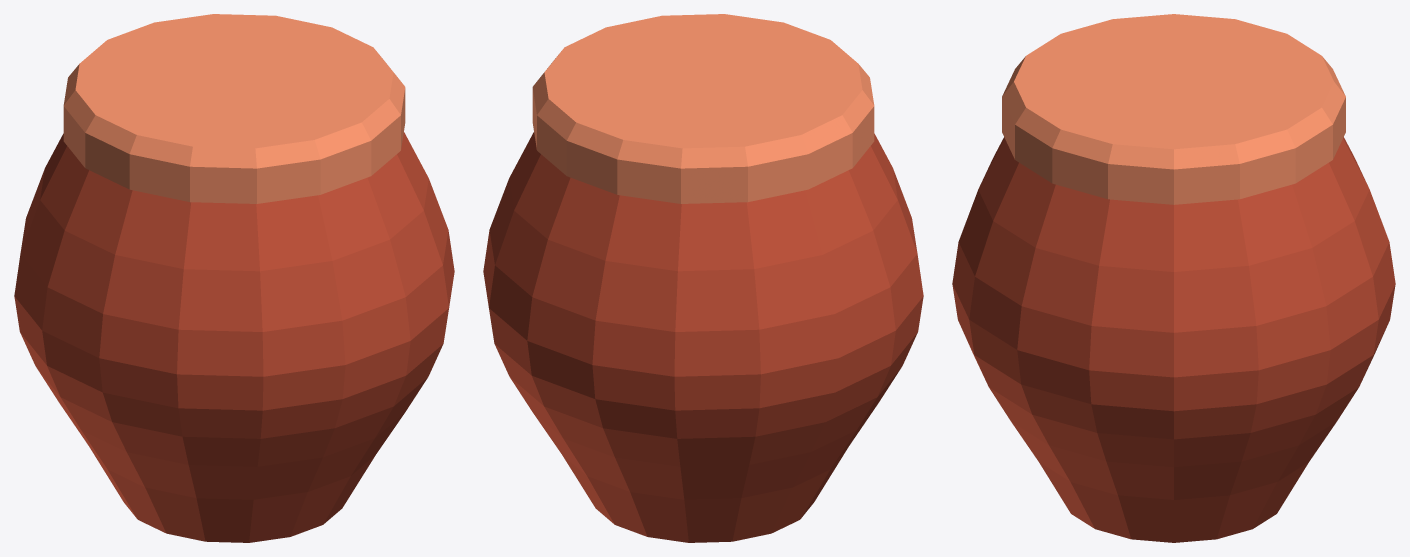
The model's file is Pot_Small.fbx.
The picture shows the model from 3 angles, left to right: view 1: azimuth 30°, elevation 25°; view 2: azimuth 150°, elevation 25°; view 3: azimuth 270°, elevation 25°; orthographic projection.
Parts seen in each view (by area): view 1: Pot_3; view 2: Pot_3; view 3: Pot_3.
Boxes of the visible parts, x1=… form: Pot_3: x1=14, y1=14, x2=454, y2=542; Pot_3: x1=483, y1=14, x2=923, y2=542; Pot_3: x1=952, y1=14, x2=1395, y2=542.
Bounding box in the file's own units: 0.3977 × 0.3977 × 0.41.
